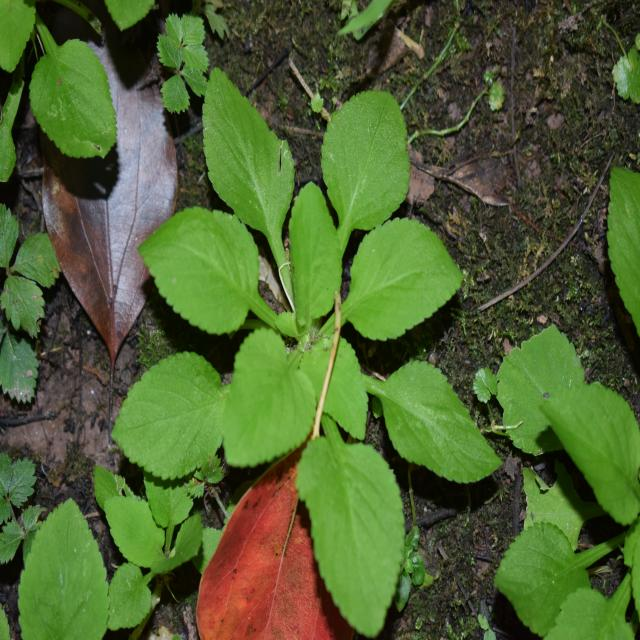Viola: (175, 89, 487, 610)
